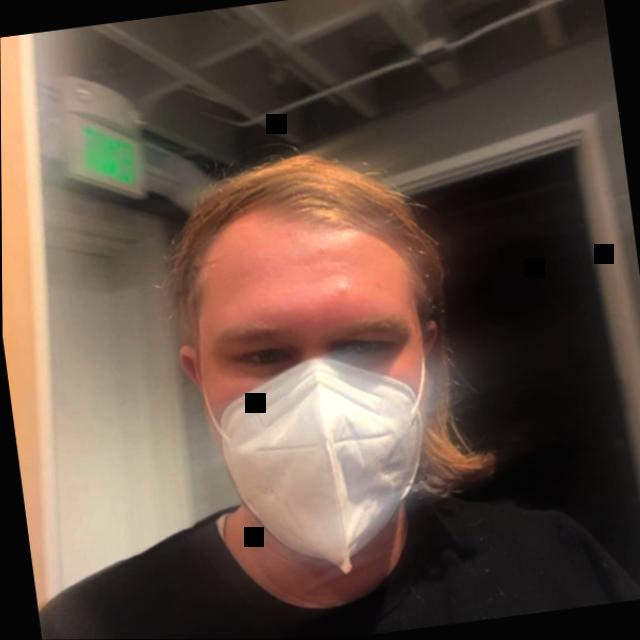Mask: (142, 122, 502, 614)
